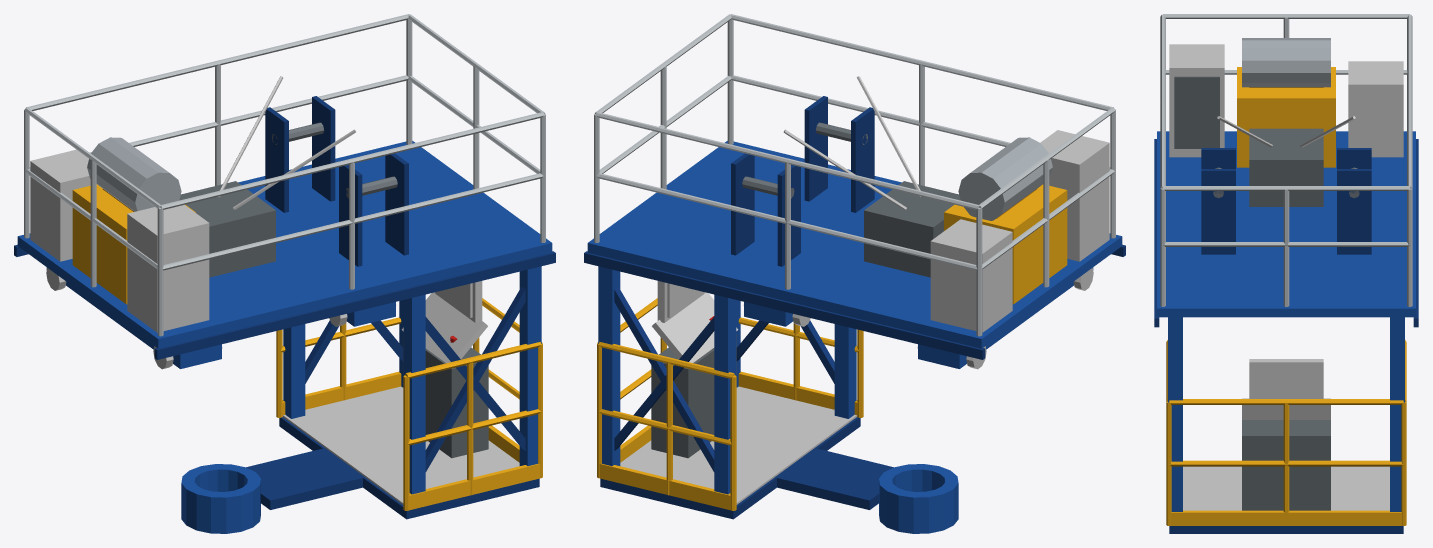
The model's file is body.obj.
3 renders of one model, left to right at view 1: azimuth 30°, elevation 25°; view 2: azimuth 150°, elevation 25°; view 3: azimuth 270°, elevation 25°, orthographic. The views are drawn at different scales.
Size of the model in its own units: 3.44 by 3.23 by 2.14.
